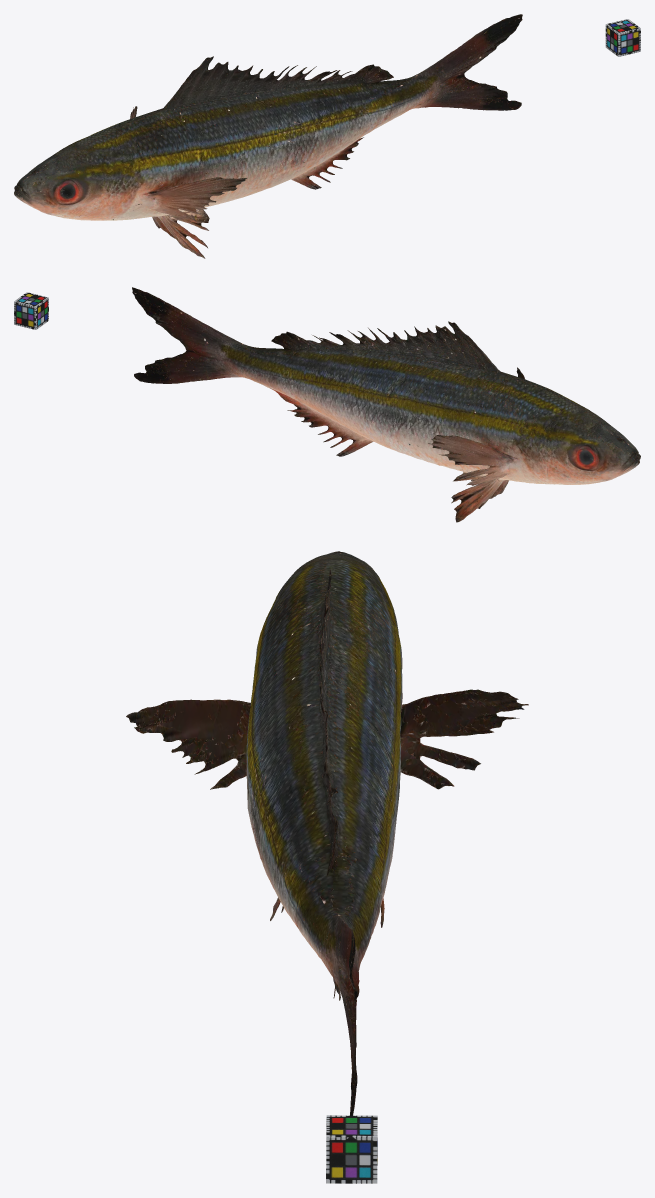
File: scan_fusilier.glb
The picture shows the model from 3 angles, top to bottom: view 1: azimuth 30°, elevation 25°; view 2: azimuth 150°, elevation 25°; view 3: azimuth 270°, elevation 25°; orthographic projection. The views are drawn at different scales.
Parts seen in each view (by area): view 1: Object_6, Object_4; view 2: Object_6, Object_4; view 3: Object_6, Object_4.
Part boxes in pixels (x1,y1,x2,y2): Object_6: (14, 14, 522, 258); Object_4: (605, 19, 640, 56); Object_6: (132, 287, 640, 522); Object_4: (14, 292, 48, 329); Object_6: (126, 551, 528, 1115); Object_4: (326, 1115, 377, 1183).
Bounding box in the file's own units: 0.2697 × 0.0781 × 0.0764.
2 materials, 2 textured.
